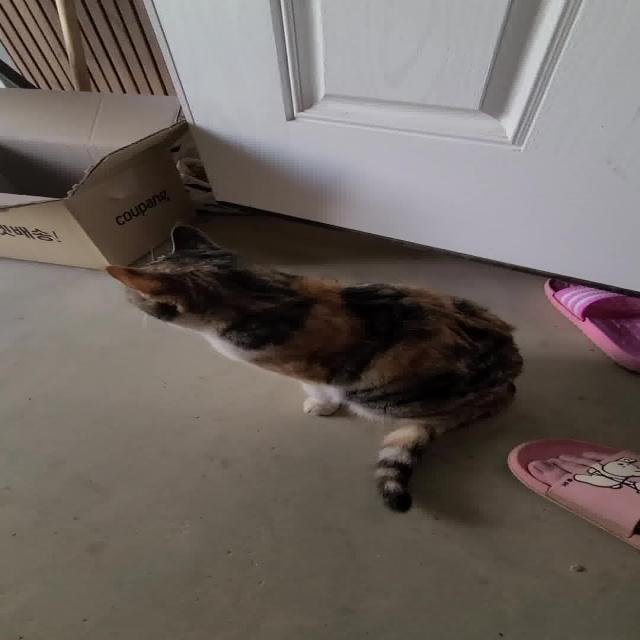cat: (92, 220, 526, 516)
